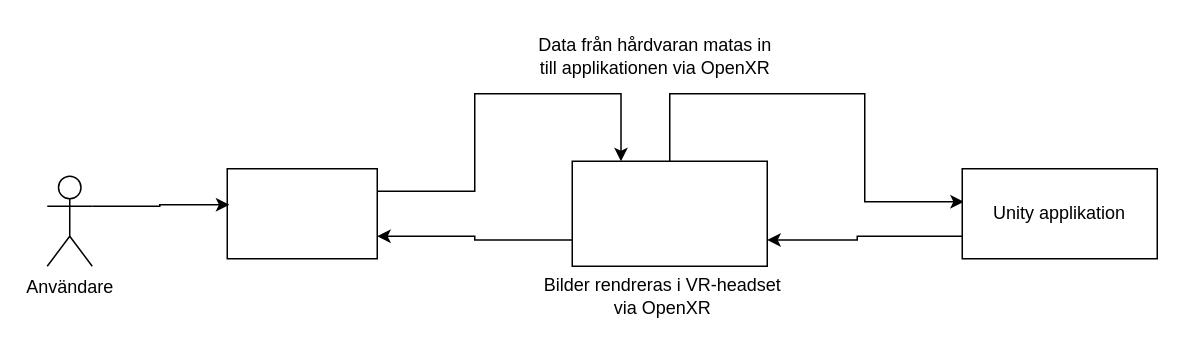
The diagram is 1184 pixels wide and 351 high, and some of its shapes have lost their labels. The centre of each missing label's shape, as x and y in pixels:
"Oculus Hårdvara" goes at (x=301, y=213).
"OpenXR" goes at (x=669, y=213).
